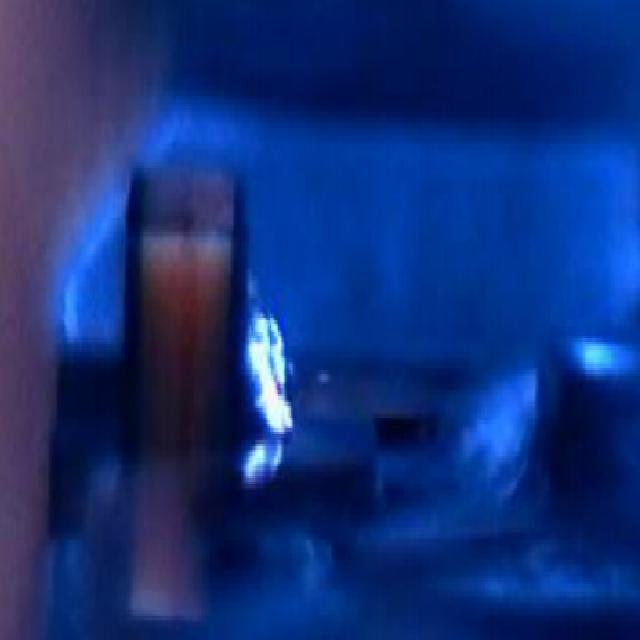No Good: (230, 250, 310, 458)
